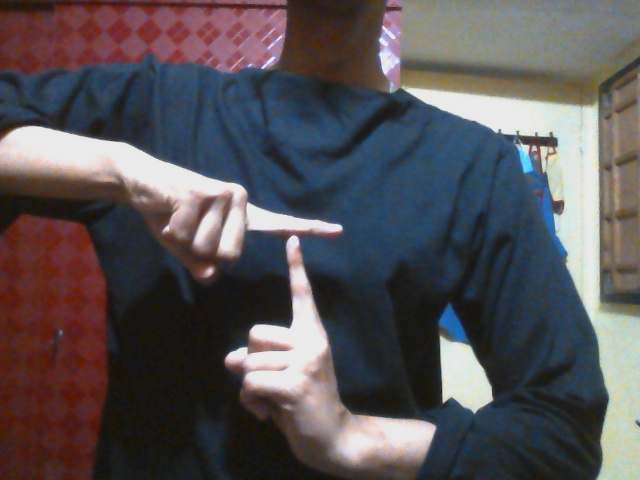T: (154, 179, 353, 434)
